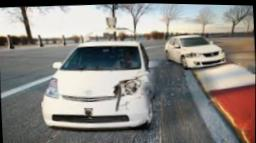Light: (112, 77, 145, 101), (183, 51, 196, 60)
